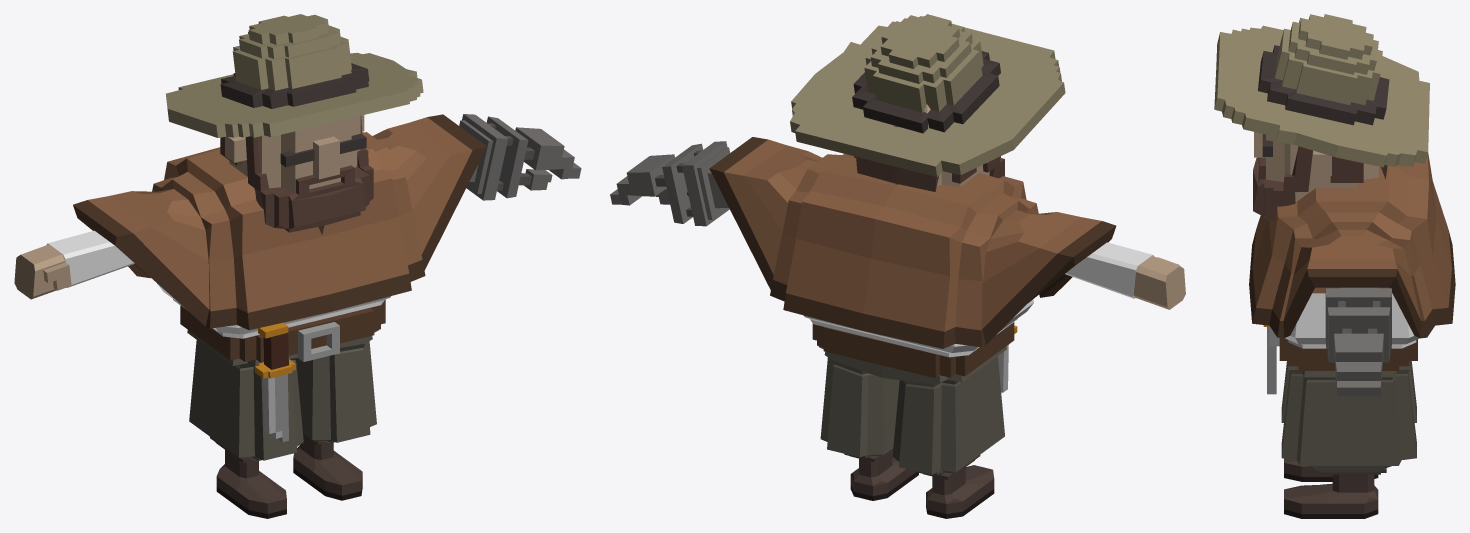
The model's file is gaucho2.fbx.
3 renders of one model, left to right at view 1: azimuth 30°, elevation 25°; view 2: azimuth 150°, elevation 25°; view 3: azimuth 270°, elevation 25°, orthographic.
Visible parts, largest first — view 1: poncho.001, Cube.005, Cube.002, leg right .001, leg left.001, arm left.001, torso.001, arm right.001, Cube.004, Cube.003, eyes.001; view 2: poncho.001, Cube.005, leg right .001, leg left.001, torso.001, arm left.001, arm right.001, Cube.002; view 3: Cube.005, poncho.001, leg left.001, arm left.001, Cube.002, torso.001, leg right .001, Cube.004.
Part boxes in pixels (box(x1,y1,x2,y2)): poncho.001: box(73, 114, 486, 330); Cube.005: box(166, 14, 423, 137); Cube.002: box(220, 115, 373, 232); leg right .001: box(189, 340, 303, 518); leg left.001: box(293, 341, 376, 500); arm left.001: box(459, 114, 581, 200); torso.001: box(157, 283, 390, 368); arm right.001: box(14, 230, 134, 299); Cube.004: box(255, 322, 295, 442); Cube.003: box(297, 322, 339, 361); eyes.001: box(280, 133, 366, 167); poncho.001: box(709, 137, 1116, 348); Cube.005: box(790, 14, 1065, 176); leg right .001: box(892, 356, 1004, 518); leg left.001: box(820, 357, 918, 500); torso.001: box(803, 299, 1033, 386); arm left.001: box(610, 141, 730, 226); arm right.001: box(1065, 242, 1185, 309); Cube.002: box(854, 104, 1004, 191); Cube.005: box(1214, 14, 1429, 167); poncho.001: box(1249, 153, 1455, 338); leg left.001: box(1281, 371, 1416, 518); arm left.001: box(1325, 287, 1391, 396); Cube.002: box(1253, 132, 1387, 221); torso.001: box(1279, 287, 1419, 379); leg right .001: box(1281, 361, 1416, 481); Cube.004: box(1263, 325, 1276, 394).
Bounding box in the file's own units: 63.53 × 51.38 × 24.07.
